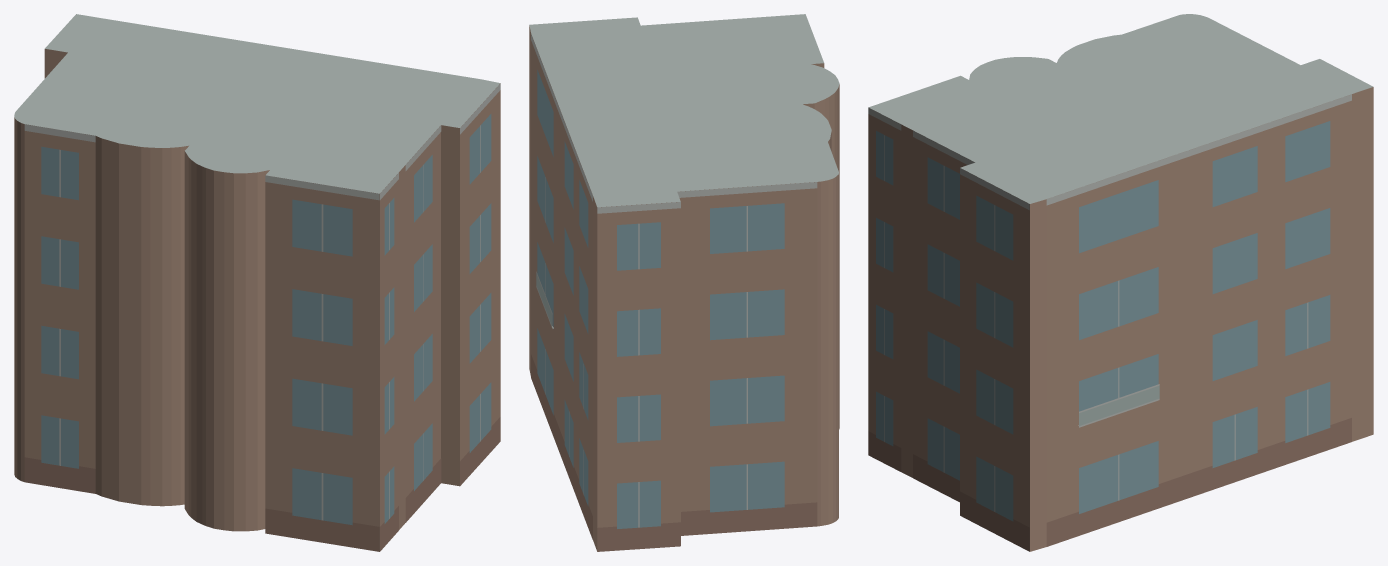
File: survey-upis-32982238.glb
3 renders of one model, left to right at view 1: azimuth 30°, elevation 25°; view 2: azimuth 150°, elevation 25°; view 3: azimuth 270°, elevation 25°, orthographic. The views are drawn at different scales.
Visible parts, largest first — view 1: survey-upis-32982238.tmp; view 2: survey-upis-32982238.tmp; view 3: survey-upis-32982238.tmp.
Part boxes in pixels (x1,y1,x2,y2): survey-upis-32982238.tmp: (14, 14, 500, 551); survey-upis-32982238.tmp: (529, 14, 839, 551); survey-upis-32982238.tmp: (868, 14, 1373, 551).
Bounding box in the file's own units: 15.36 × 13.1 × 17.25.
